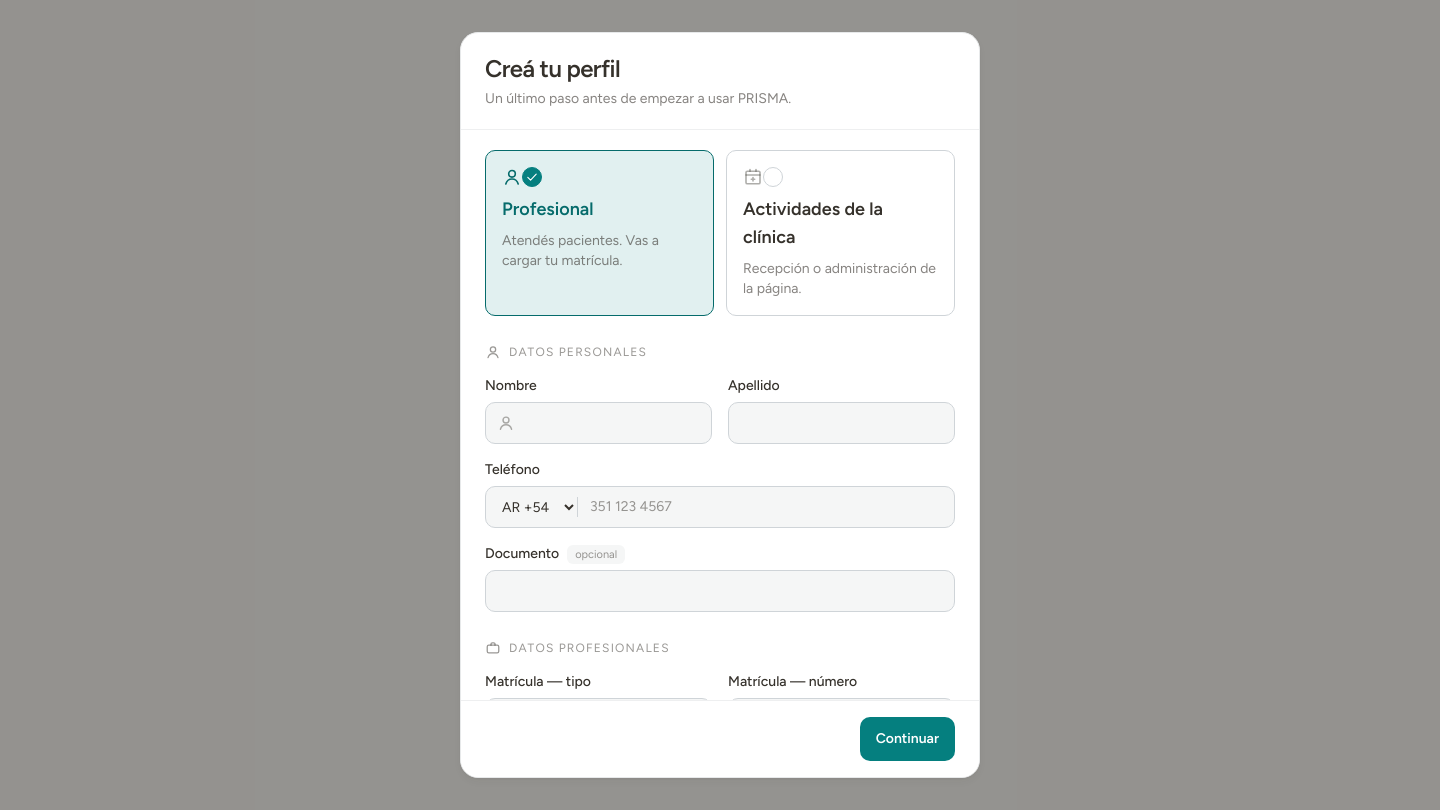
Scenario: PerfilOverlay › con 'Actividades de la clínica' no se piden matrícula ni especialidades
Click the button "Actividades de la clínica" at coordinates (840, 233), box [726,150,955,316]
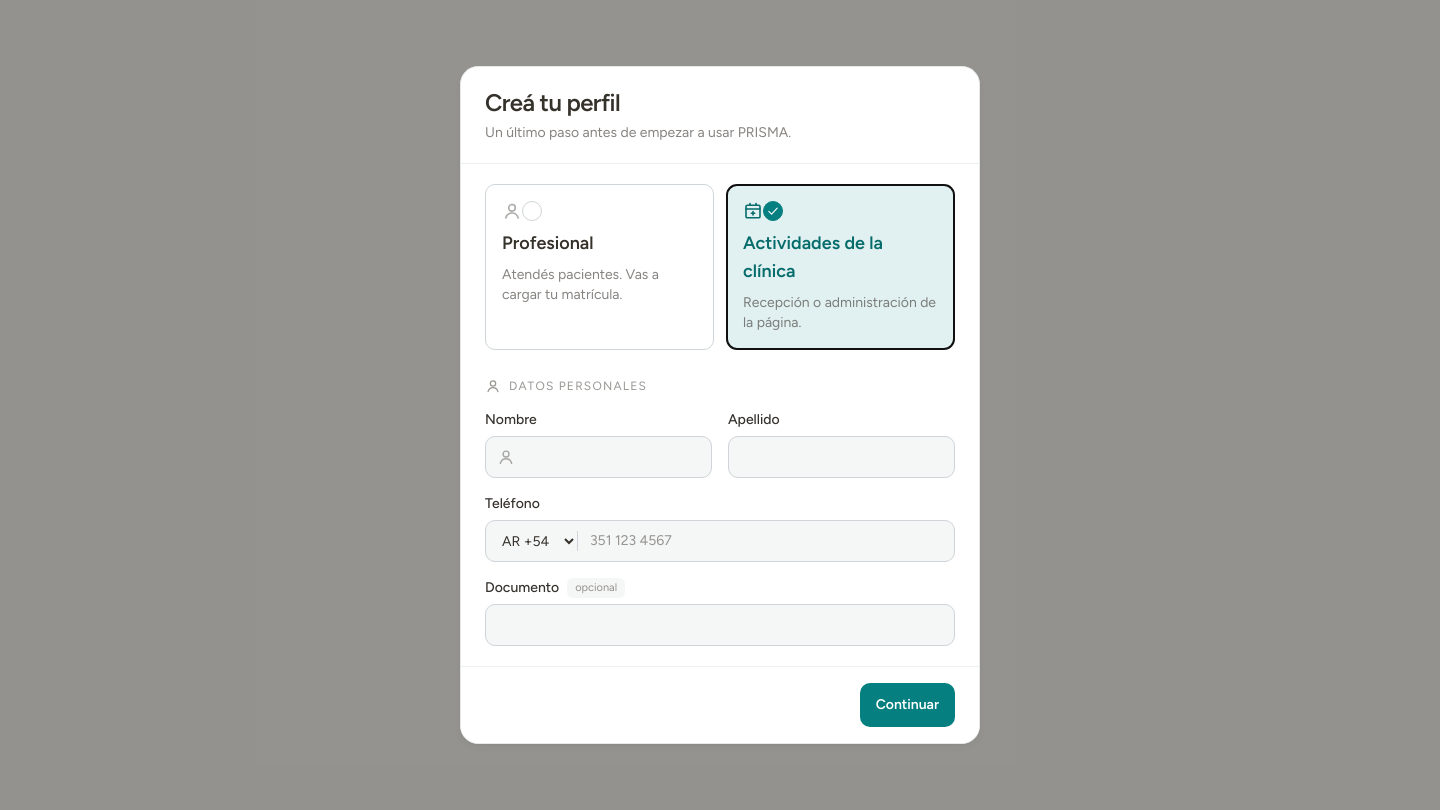
Expected: the text "Especialidades" is not shown
Result: the text labelled "Matrícula — tipo" is gone
Result: the text labelled "Matrícula — número" is gone
